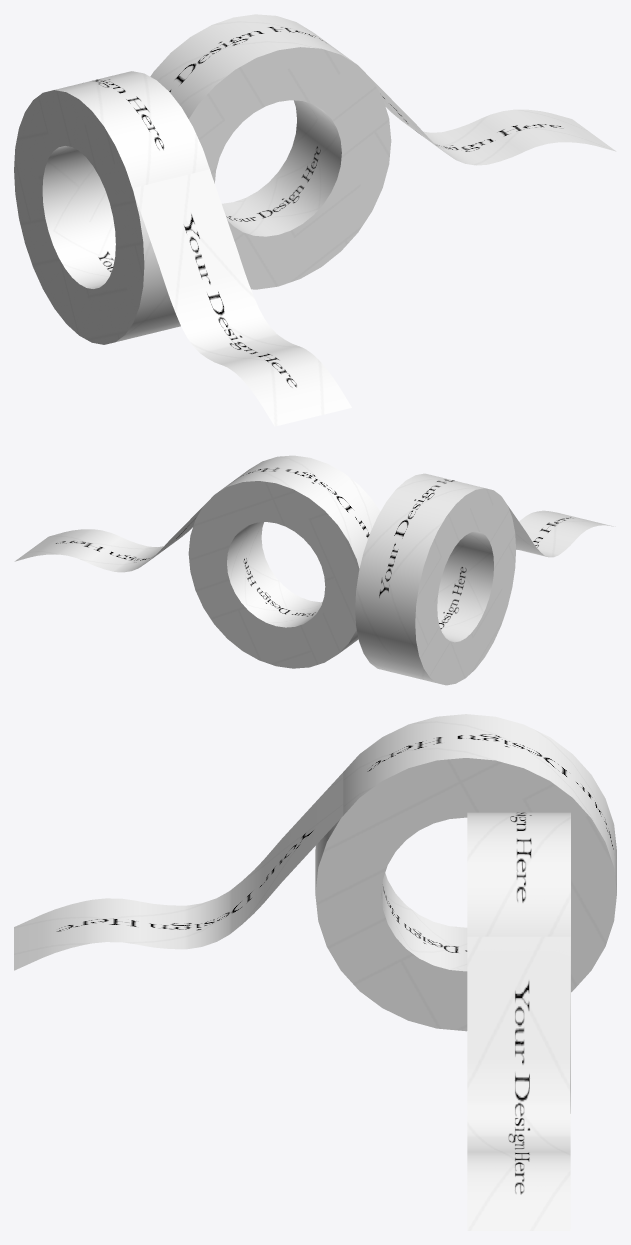
File: Box_Tape A-1.glb
The picture shows the model from 3 angles, top to bottom: view 1: azimuth 30°, elevation 25°; view 2: azimuth 150°, elevation 25°; view 3: azimuth 270°, elevation 25°; orthographic projection. The views are drawn at different scales.
Parts seen in each view (by area): view 1: Tape_roll, Tape_roll.001; view 2: Tape_roll.001, Tape_roll; view 3: Tape_roll, Tape_roll.001.
Part boxes in pixels (x1,y1,x2,y2): Tape_roll: [14, 71, 351, 426]; Tape_roll.001: [150, 14, 616, 289]; Tape_roll.001: [14, 455, 380, 668]; Tape_roll: [355, 473, 615, 685]; Tape_roll: [14, 714, 616, 1031]; Tape_roll.001: [467, 812, 570, 1230].
Size of the model in its own units: 0.1406 by 0.059 by 0.118.
1 material, 1 textured.
